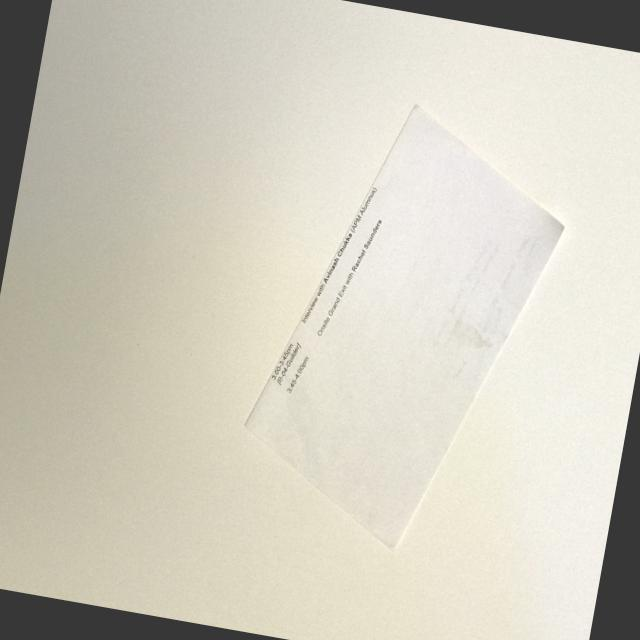Paper: (204, 41, 620, 594)
